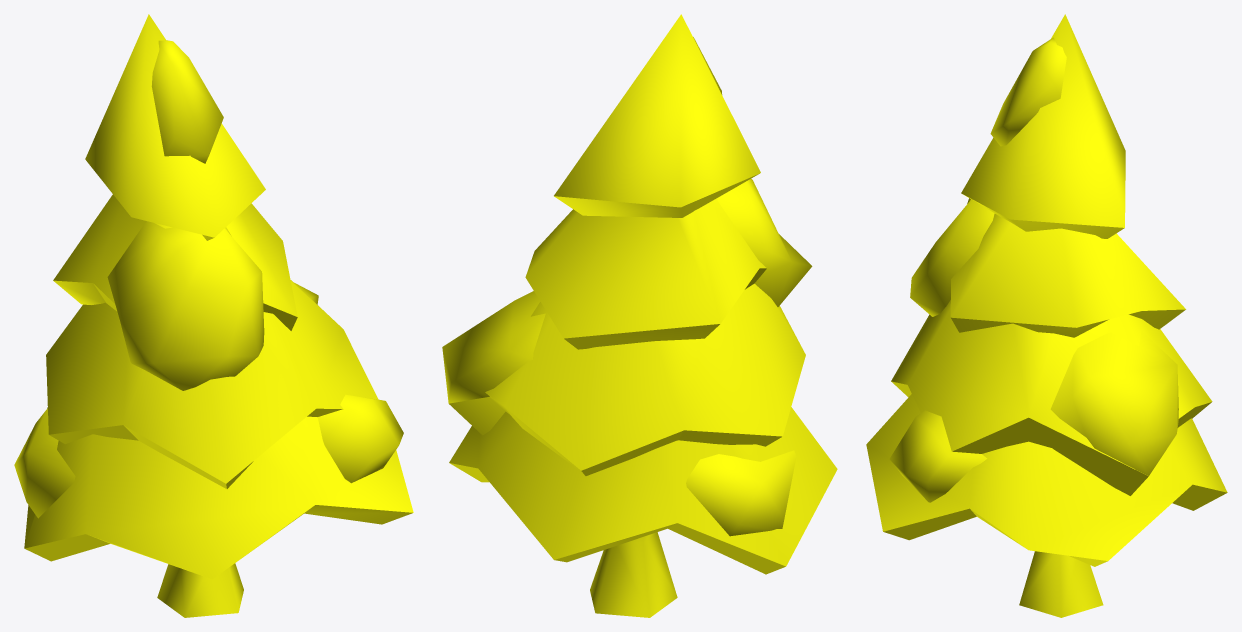
3 views of the same model, side by side, from view 1: azimuth 30°, elevation 25°; view 2: azimuth 150°, elevation 25°; view 3: azimuth 270°, elevation 25° (orthographic). The views are drawn at different scales.
Visible parts, largest first — view 1: fir_tree; view 2: fir_tree; view 3: fir_tree.
Boxes of the visible parts, x1=… form: fir_tree: x1=14, y1=14, x2=413, y2=617; fir_tree: x1=442, y1=14, x2=837, y2=617; fir_tree: x1=866, y1=14, x2=1227, y2=617.
Bounding box in the file's own units: 0.0385 × 0.0658 × 0.0384.
1 material, 1 textured.
